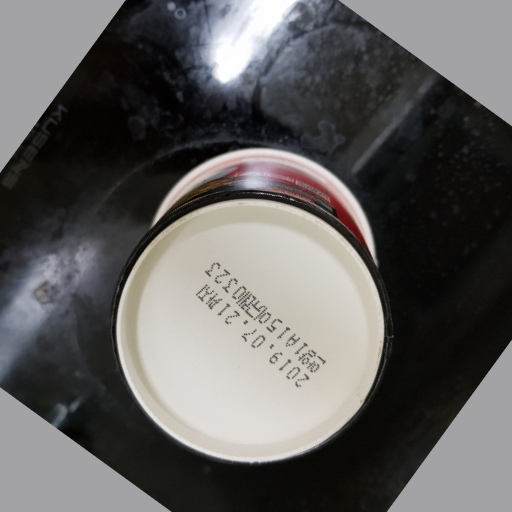Paper_1: (109, 146, 397, 464)
